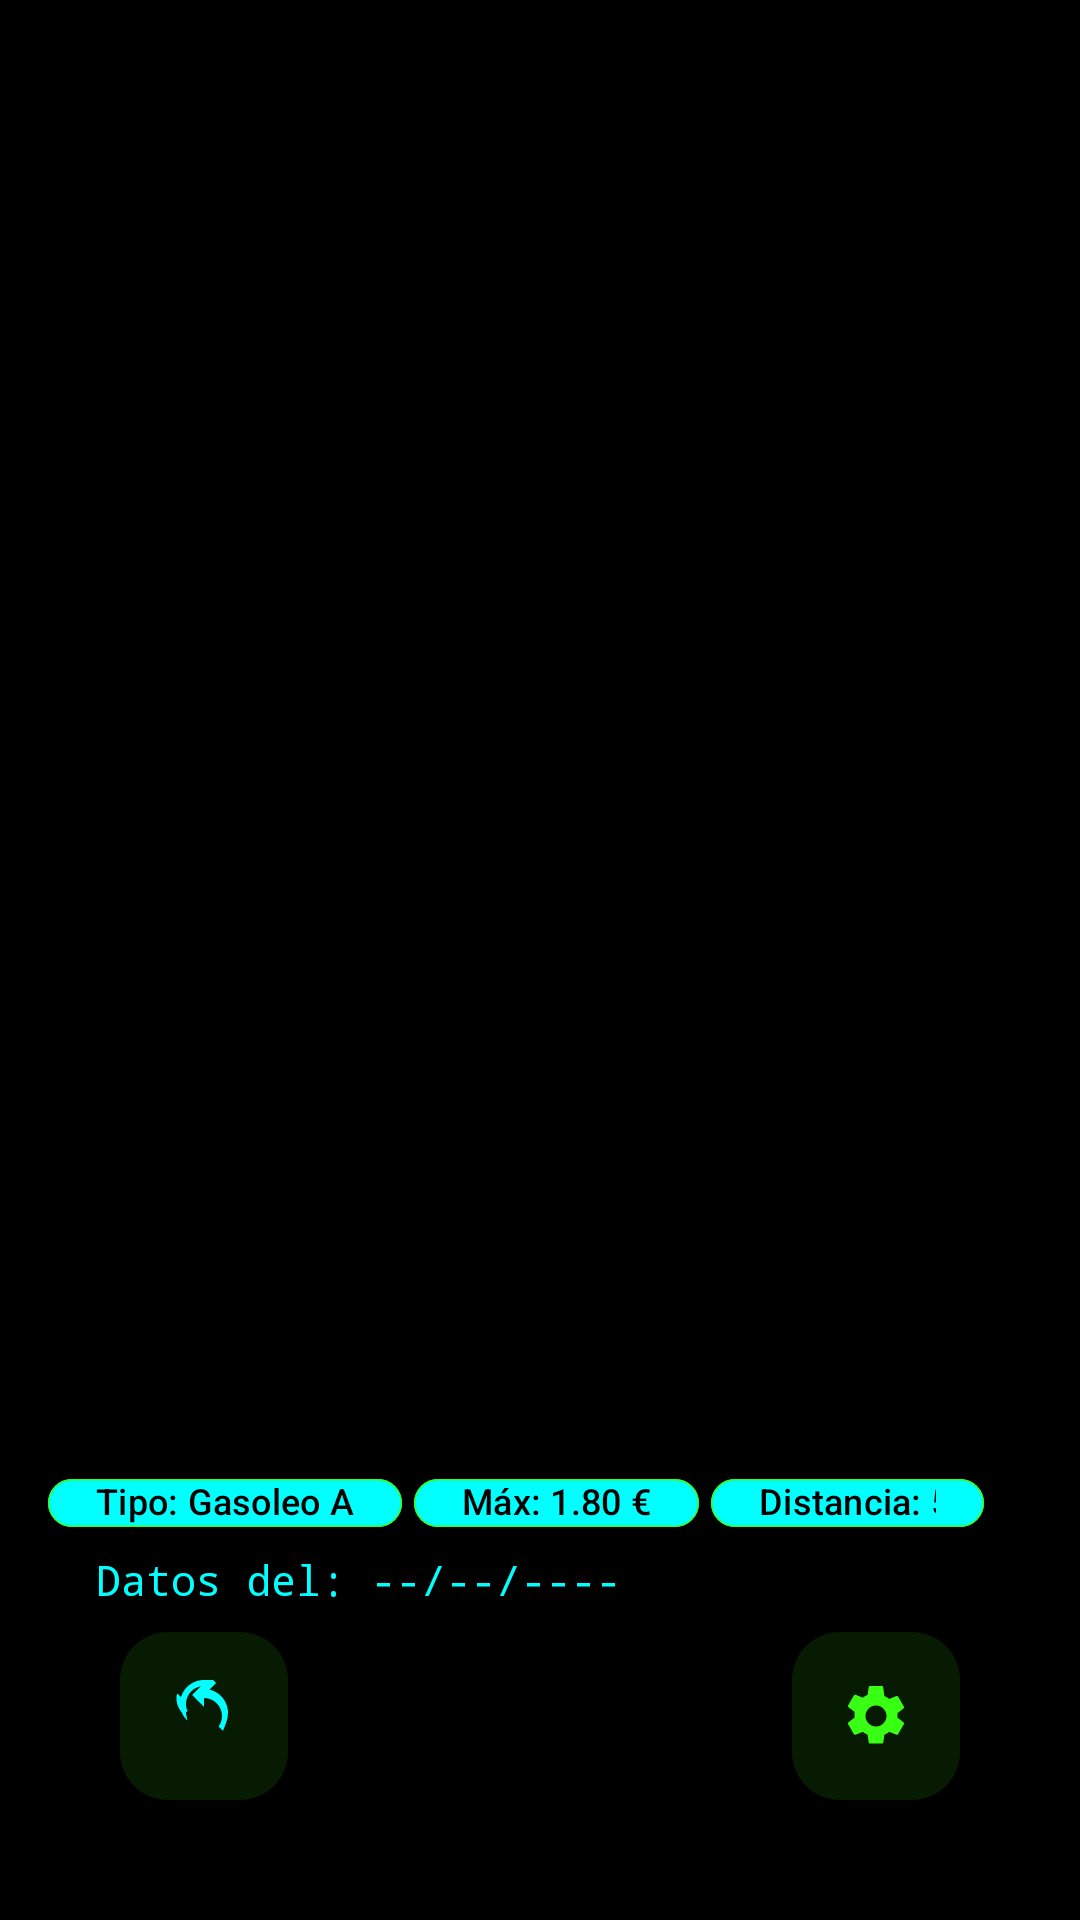

Icons on this 1080 × 1920 Android screen, each with the point to tap as [x,y]:
Ajustes: [876,1716]
